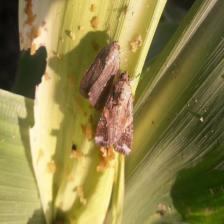unkown: (95, 70, 142, 166), (79, 28, 123, 103)
